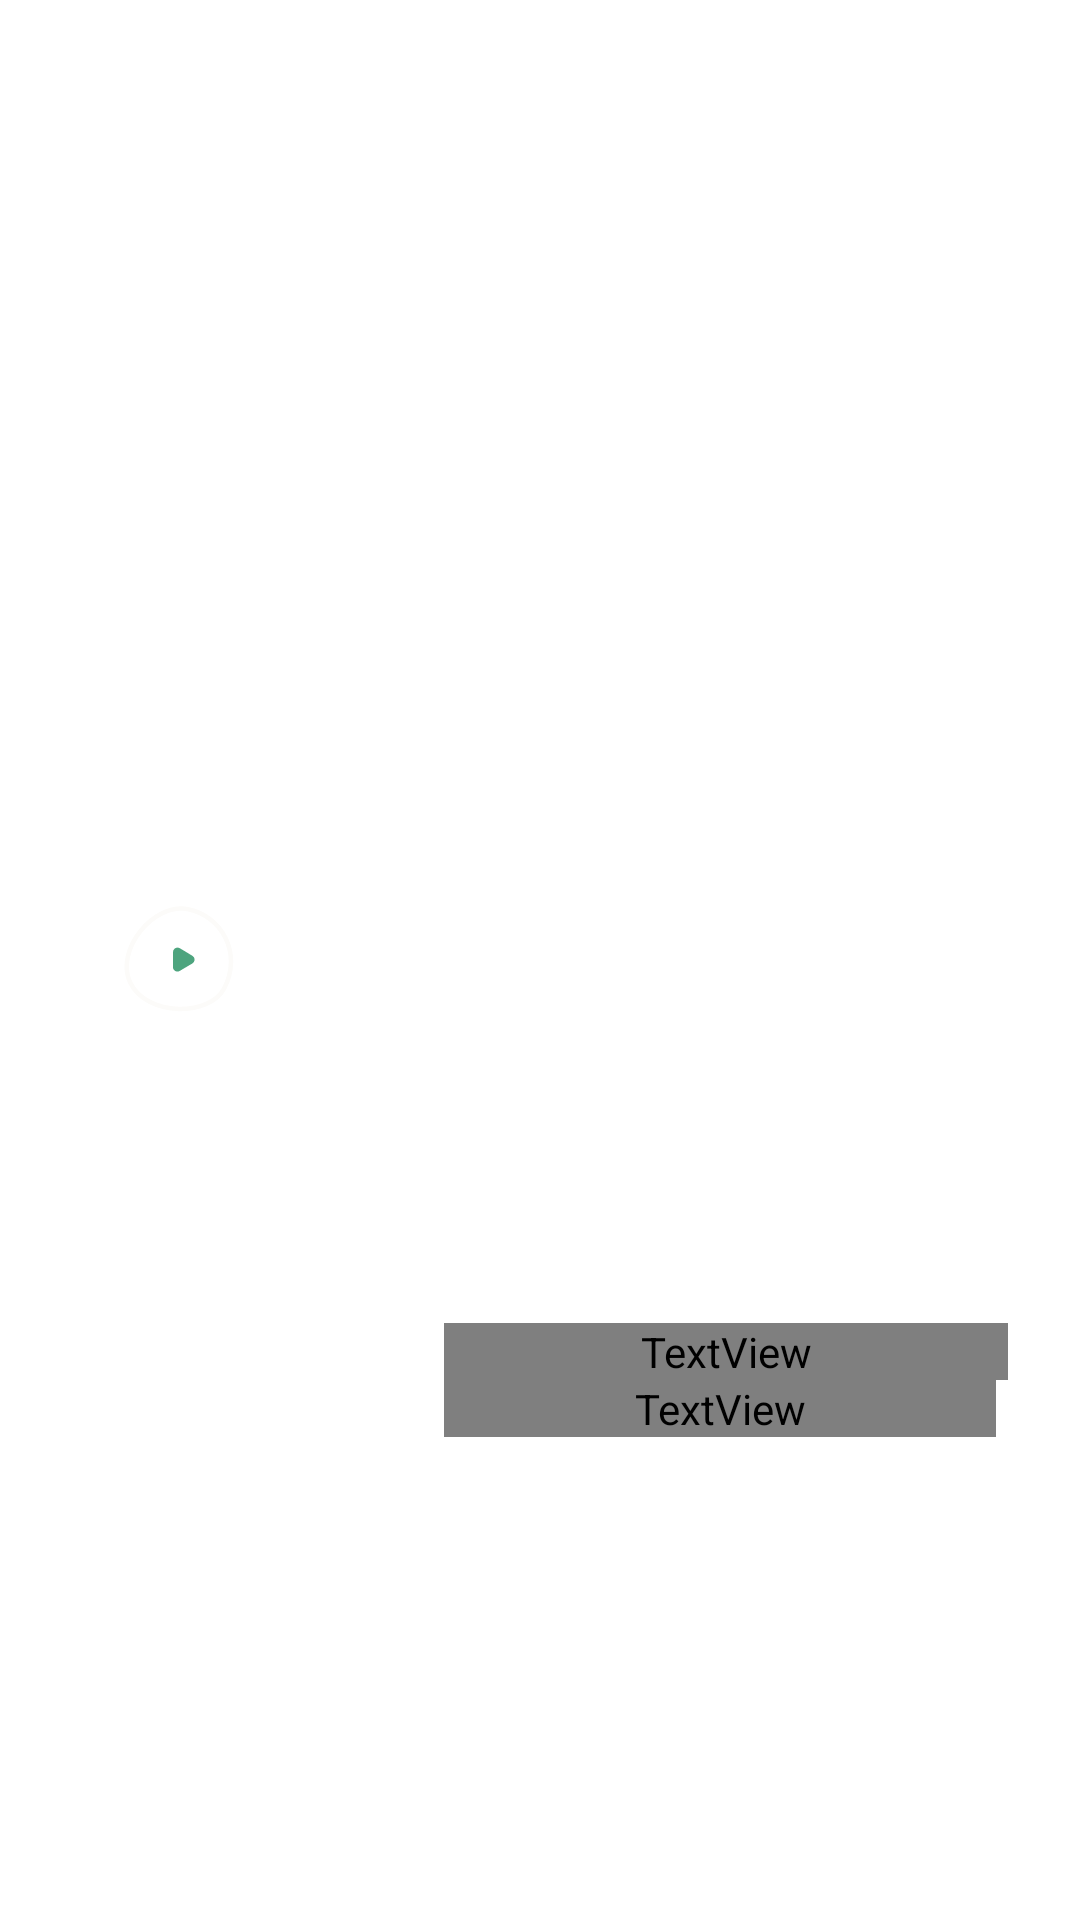

Where to tap for icons on this 1080 × 1920 app screen, as point (x, y):
Play icon: point (184, 959)
